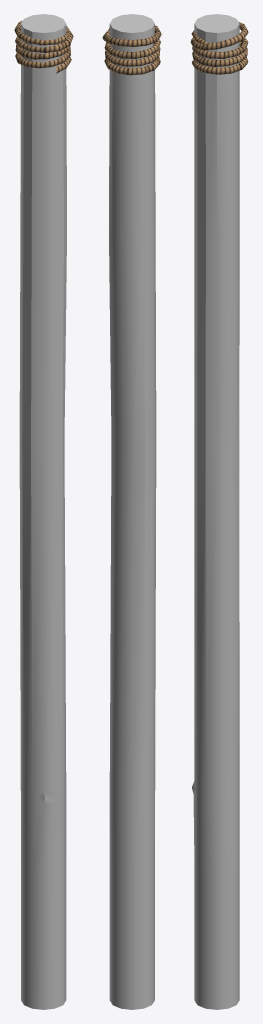
The model's file is SM_Scaffold_pole_rope.fbx.
3 views of the same model, side by side, from view 1: azimuth 30°, elevation 25°; view 2: azimuth 210°, elevation 25°; view 3: azimuth 270°, elevation 25° (orthographic).
Parts seen in each view (by area): view 1: SM_Scaffold_pole_3; view 2: SM_Scaffold_pole_3; view 3: SM_Scaffold_pole_3.
Boxes of the visible parts, bbox=[...] form: SM_Scaffold_pole_3: bbox=[14, 14, 73, 1009]; SM_Scaffold_pole_3: bbox=[102, 14, 161, 1009]; SM_Scaffold_pole_3: bbox=[190, 14, 248, 1009].
Size of the model in its own units: 17.65 by 334 by 18.
